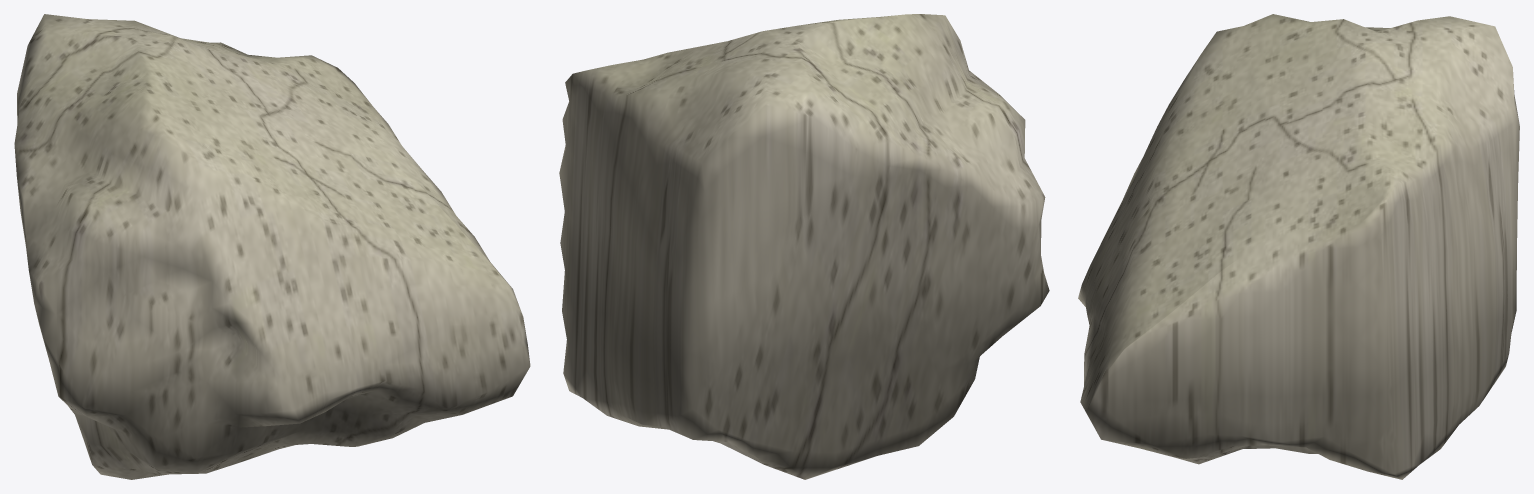
File: rock-limestone-0.lite.glb
The picture shows the model from 3 angles, left to right: view 1: azimuth 30°, elevation 25°; view 2: azimuth 150°, elevation 25°; view 3: azimuth 270°, elevation 25°; orthographic projection. The views are drawn at different scales.
Parts seen in each view (by area): view 1: model; view 2: model; view 3: model.
Part boxes in pixels (x1,y1,x2,y2): model: [14, 14, 530, 479]; model: [559, 14, 1049, 479]; model: [1078, 14, 1519, 479].
Bounding box in the file's own units: 1 × 0.9566 × 0.9668.
Materials: 1 (1 with a texture image).
